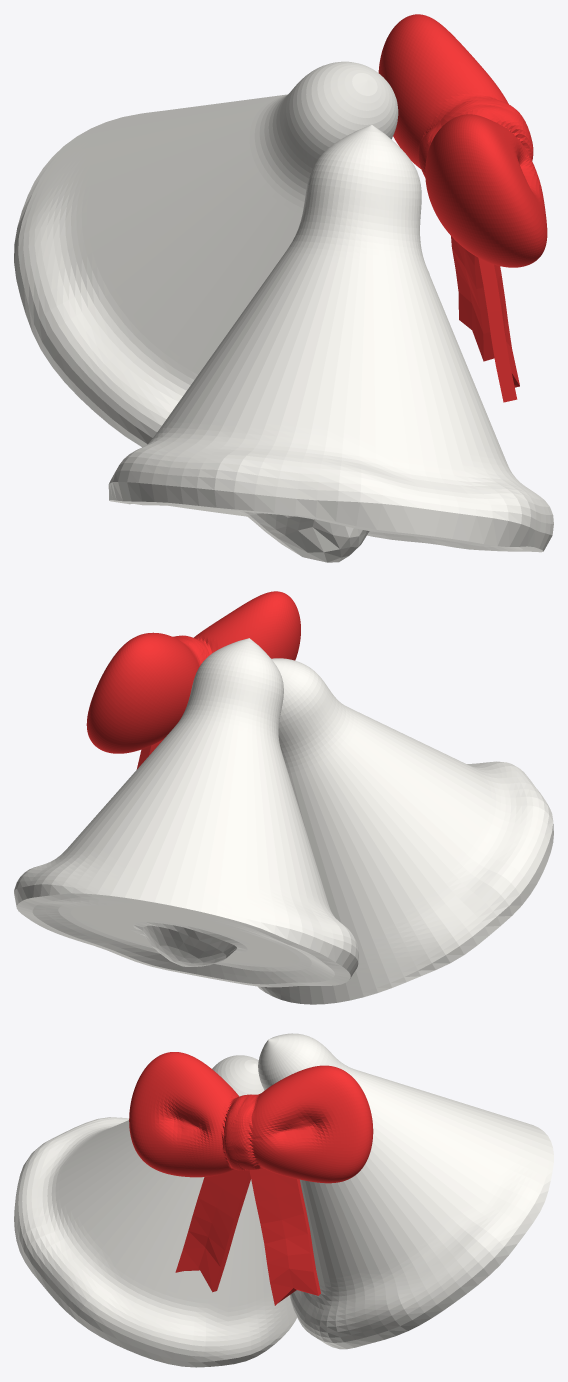
Rendered from decoration_6_2.glb.
3 views of the same model, one above another, from view 1: azimuth 30°, elevation 25°; view 2: azimuth 150°, elevation 25°; view 3: azimuth 270°, elevation 25° (orthographic). The views are drawn at different scales.
Visible parts, largest first — view 1: Cone, Cone 1, Sphere 2; view 2: Cone 1, Cone, Sphere 2; view 3: Cone 1, Cone, Sphere 2.
Part boxes in pixels (left/top/right/bottom): Cone: left=108, top=124, right=553, bottom=562; Cone 1: left=14, top=61, right=429, bottom=447; Sphere 2: left=378, top=14, right=547, bottom=402; Cone 1: left=14, top=638, right=358, bottom=987; Cone: left=257, top=658, right=553, bottom=1004; Sphere 2: left=86, top=591, right=300, bottom=769; Cone 1: left=258, top=1033, right=553, bottom=1349; Cone: left=14, top=1055, right=297, bottom=1367; Sphere 2: left=129, top=1052, right=373, bottom=1305.
Size of the model in its own units: 0.3793 by 0.3603 by 0.5472.
